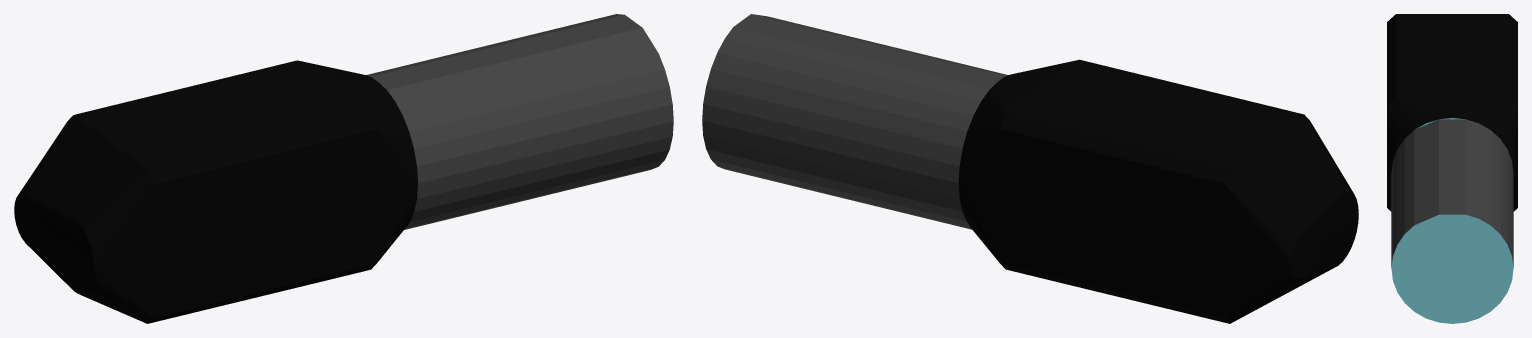
Rendered from camera.dae.
3 renders of one model, left to right at view 1: azimuth 30°, elevation 25°; view 2: azimuth 150°, elevation 25°; view 3: azimuth 270°, elevation 25°, orthographic. The views are drawn at different scales.
Visible parts, largest first — view 1: Cam; view 2: Cam; view 3: Cam.
Boxes of the visible parts, bbox=[...] form: Cam: bbox=[14, 14, 673, 323]; Cam: bbox=[702, 14, 1358, 323]; Cam: bbox=[1387, 14, 1517, 323].
Bounding box in the file's own units: 0.1142 × 0.029 × 0.029.
